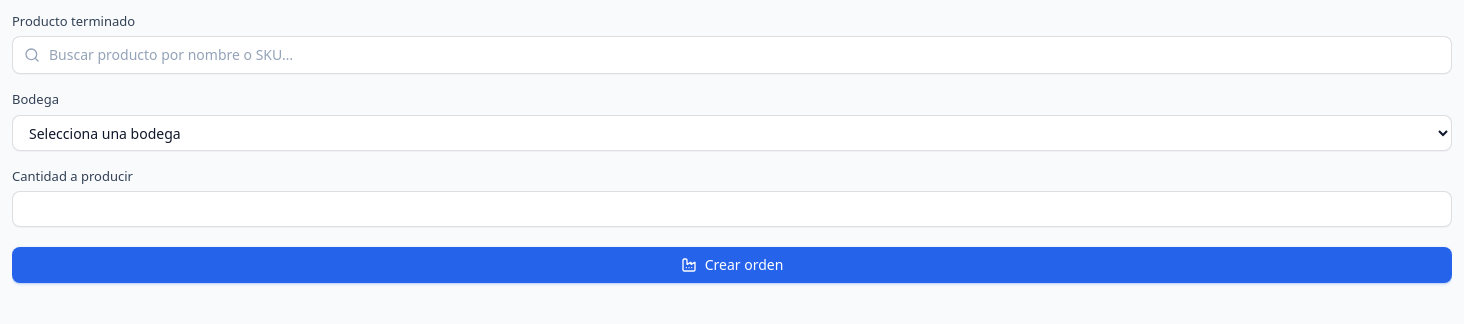
Test: ProductionOrderForm › blocks submit and shows an error when no product is selected
Select "Bodega principal" in the dropdown labelled "Bodega" at (732, 133), box [12, 115, 1452, 151]
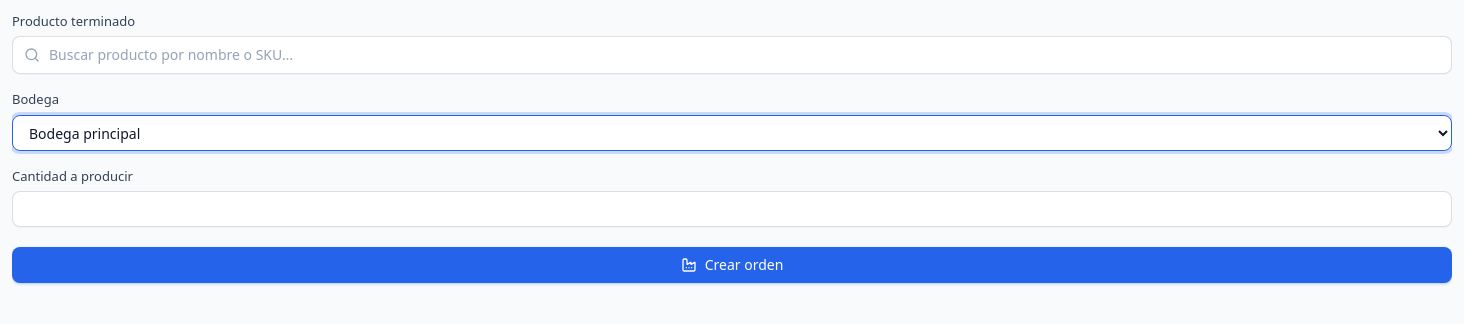
Type "5" into the number field labelled "Cantidad a producir" at (732, 208), box [12, 190, 1452, 226]
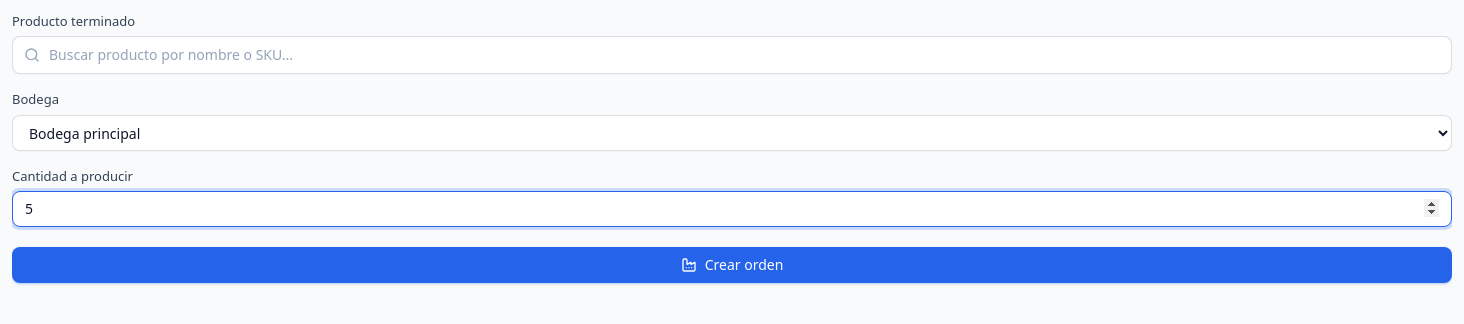
Click the button "Crear orden" at (732, 264), box [12, 246, 1452, 282]
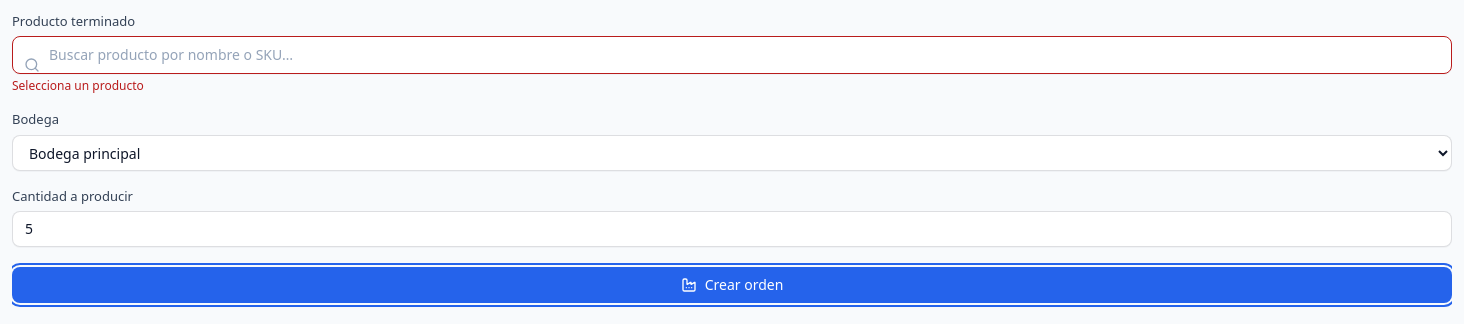
Now the text "Selecciona un producto" is shown, box [12, 76, 144, 94]
